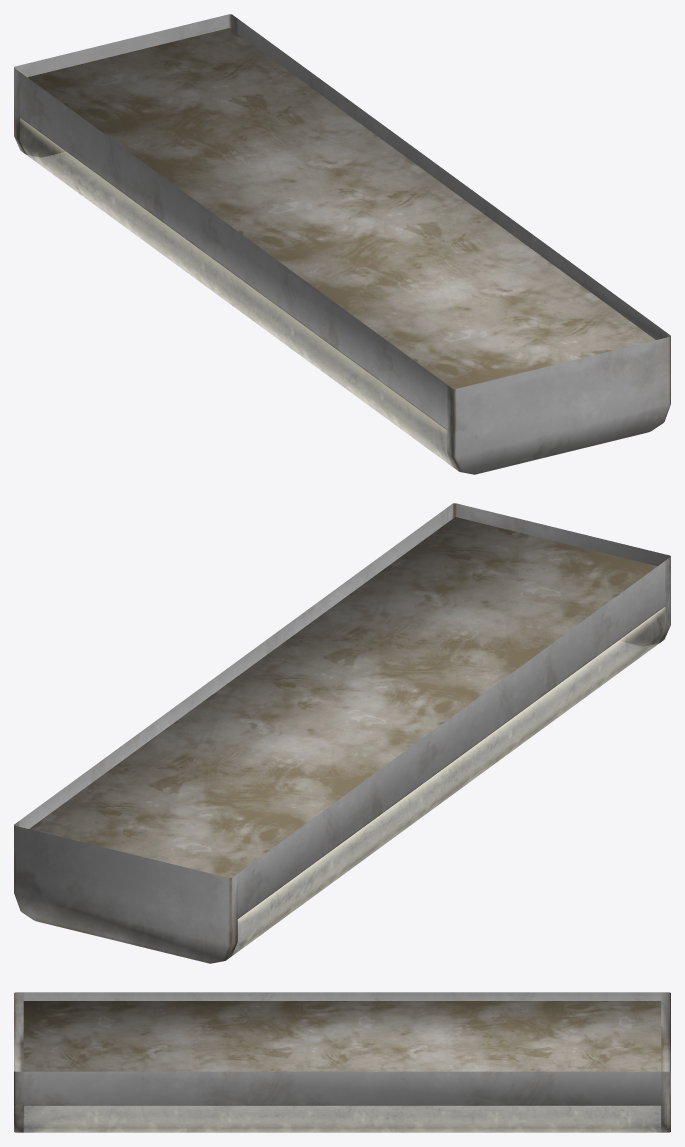
Rendered from ceiling_fluorescent_light.glb.
3 renders of one model, top to bottom at view 1: azimuth 30°, elevation 25°; view 2: azimuth 150°, elevation 25°; view 3: azimuth 270°, elevation 25°, orthographic. The views are drawn at different scales.
Visible parts, largest first — view 1: Lamp; view 2: Lamp; view 3: Lamp.
Part boxes in pixels (x1,y1,x2,y2): Lamp: (14, 14, 670, 474); Lamp: (14, 503, 670, 963); Lamp: (14, 992, 670, 1132).
Bounding box in the file's own units: 20 × 8 × 70.
Materials: 1 (1 with a texture image).
